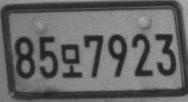2: (131, 32, 153, 76)
3: (155, 32, 177, 76)
5: (38, 35, 58, 79)
7: (83, 34, 104, 77)
8: (14, 35, 35, 79)
9: (107, 33, 128, 77)
모: (60, 43, 83, 78)
